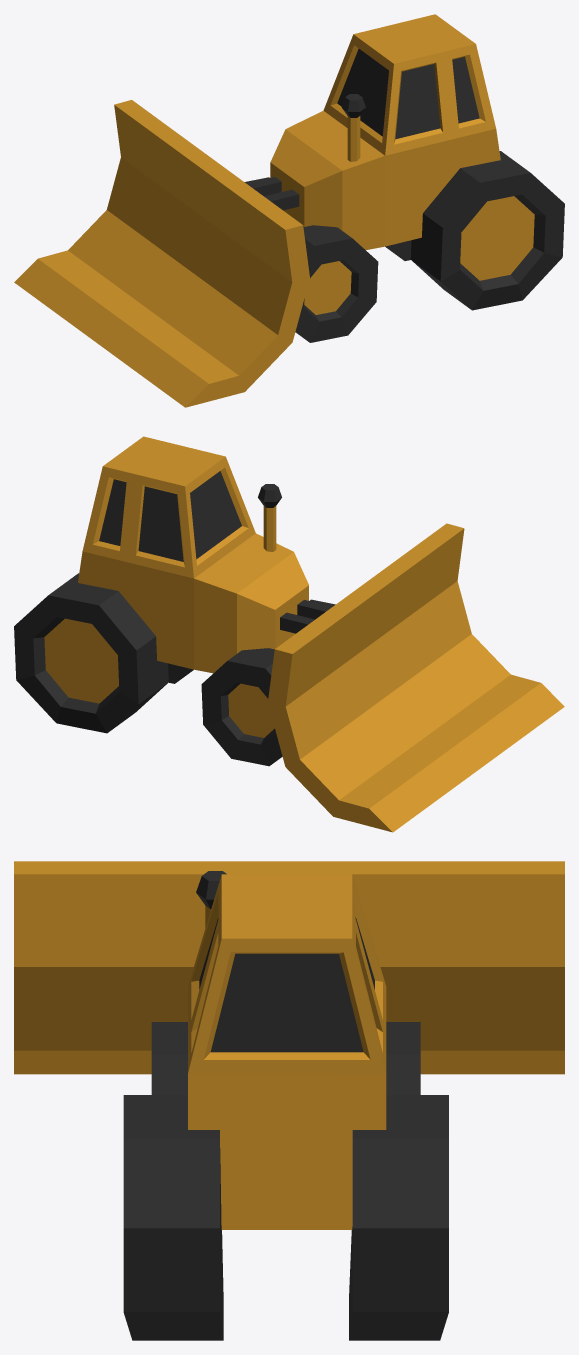
File: excavator_3.fbx
3 renders of one model, top to bottom at view 1: azimuth 30°, elevation 25°; view 2: azimuth 150°, elevation 25°; view 3: azimuth 270°, elevation 25°, orthographic. The views are drawn at different scales.
Parts seen in each view (by area): view 1: test_excavator_3; view 2: test_excavator_3; view 3: test_excavator_3.
Part boxes in pixels (left/top/right/bottom): test_excavator_3: left=14, top=14, right=564, bottom=407; test_excavator_3: left=14, top=436, right=564, bottom=832; test_excavator_3: left=14, top=861, right=564, bottom=1340.
Size of the model in its own units: 140 by 77.87 by 100.
